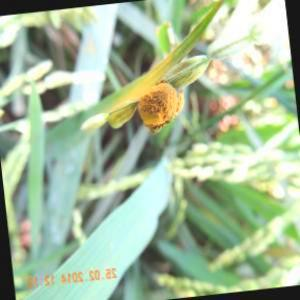Leaf_Scald: (140, 80, 176, 133)
